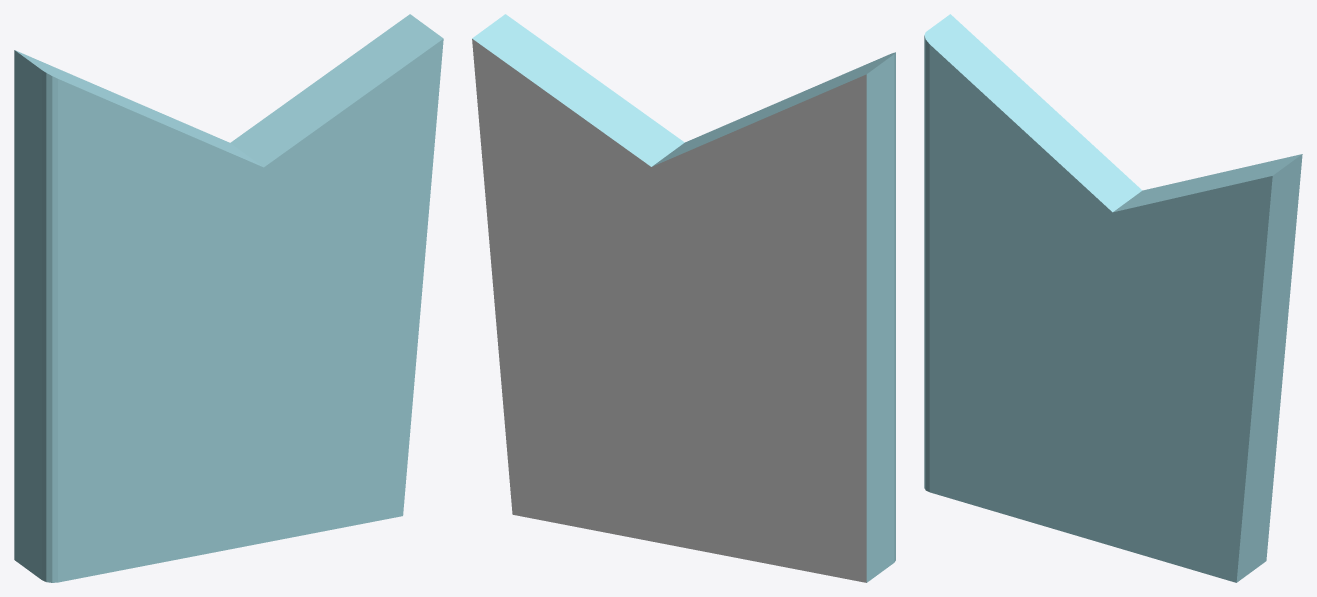
The model's file is chrome9.glb.
3 renders of one model, left to right at view 1: azimuth 30°, elevation 25°; view 2: azimuth 150°, elevation 25°; view 3: azimuth 330°, elevation 25°, orthographic. The views are drawn at different scales.
Parts seen in each view (by area): view 1: Plane.008; view 2: Plane.008; view 3: Plane.008.
Boxes of the visible parts, box(x1,y1,x2,y2) form: Plane.008: box(14, 14, 443, 582); Plane.008: box(472, 14, 895, 582); Plane.008: box(924, 14, 1302, 582).
Size of the model in its own units: 34 by 43.37 by 5.
